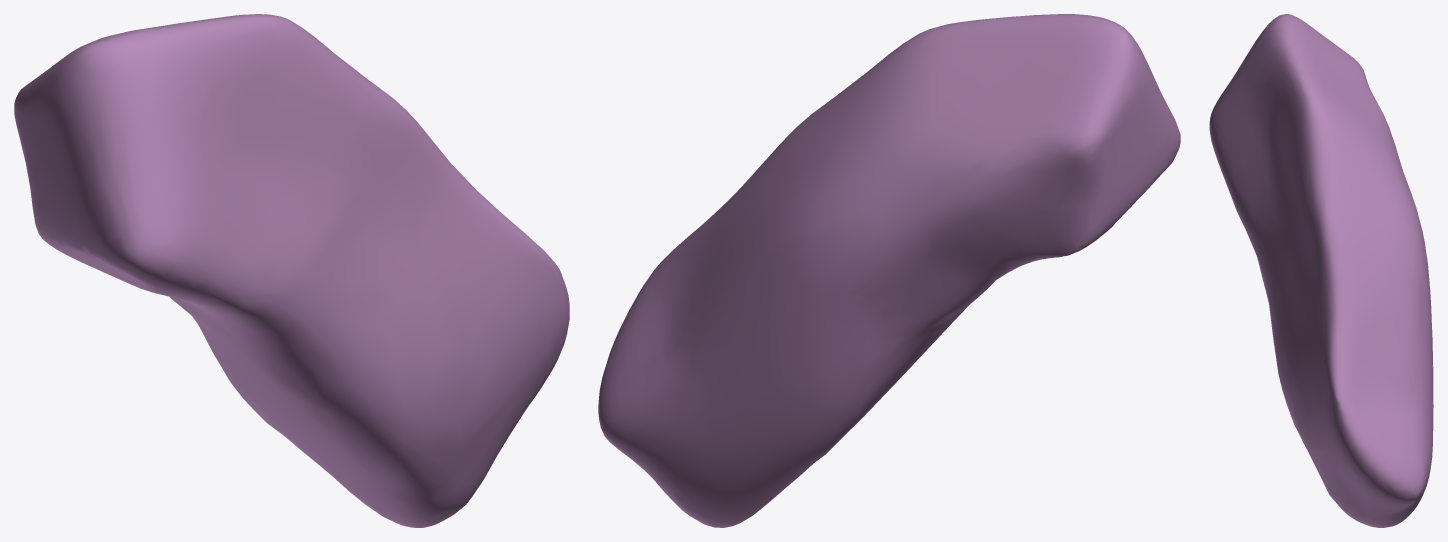
The picture shows the model from 3 angles, left to right: view 1: azimuth 30°, elevation 25°; view 2: azimuth 150°, elevation 25°; view 3: azimuth 270°, elevation 25°; orthographic projection. The views are drawn at different scales.
Parts seen in each view (by area): view 1: 左侧后方形小叶; view 2: 左侧后方形小叶; view 3: 左侧后方形小叶.
Part boxes in pixels (x1,y1,x2,y2): 左侧后方形小叶: [14, 14, 569, 527]; 左侧后方形小叶: [598, 14, 1180, 527]; 左侧后方形小叶: [1209, 14, 1433, 527].
Bounding box in the file's own units: 0.0623 × 0.0664 × 0.0343.
